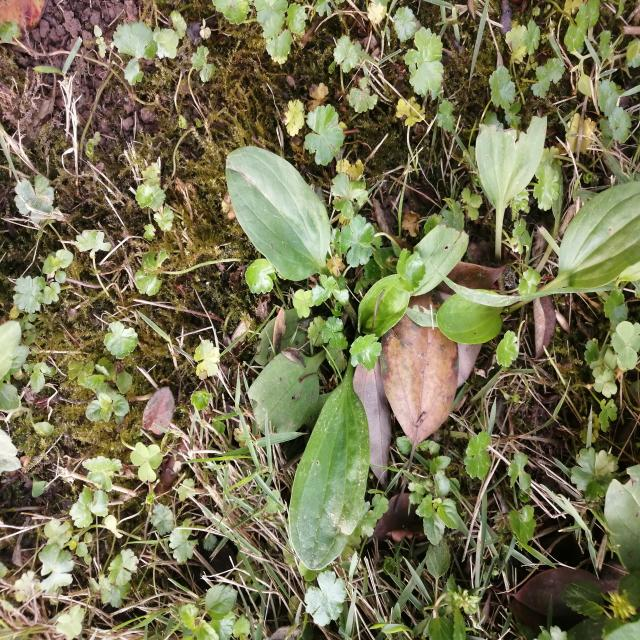plantain: (440, 99, 640, 355)
